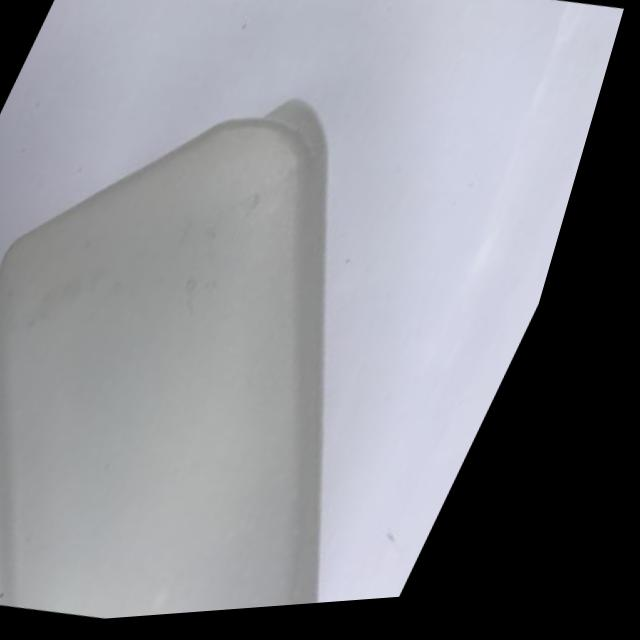plastic: (0, 0, 632, 640)
